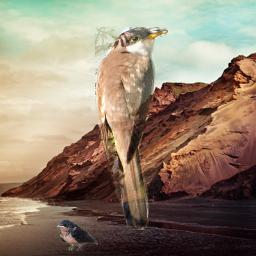Cuckoo: (95, 27, 168, 230)
Swallow: (56, 219, 98, 251)
